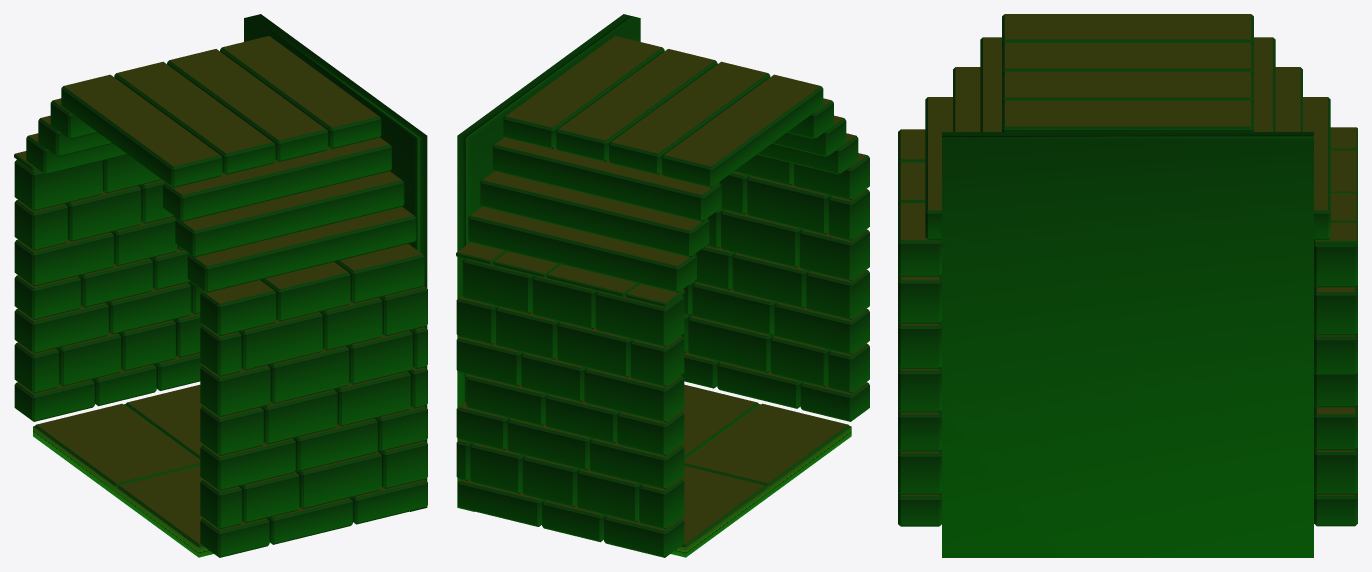
File: shrine_chamber_passage.glb
3 views of the same model, side by side, from view 1: azimuth 30°, elevation 25°; view 2: azimuth 150°, elevation 25°; view 3: azimuth 270°, elevation 25° (orthographic). The views are drawn at different scales.
Visible parts, largest first — view 1: shrine_chamber_passage; view 2: shrine_chamber_passage; view 3: shrine_chamber_passage.
Part boxes in pixels (x1,y1,x2,y2): shrine_chamber_passage: (14, 14, 427, 557); shrine_chamber_passage: (456, 14, 869, 557); shrine_chamber_passage: (898, 14, 1357, 557).
Size of what is drawn, in the model's own units: 2.7 by 4.24 by 4.2.
